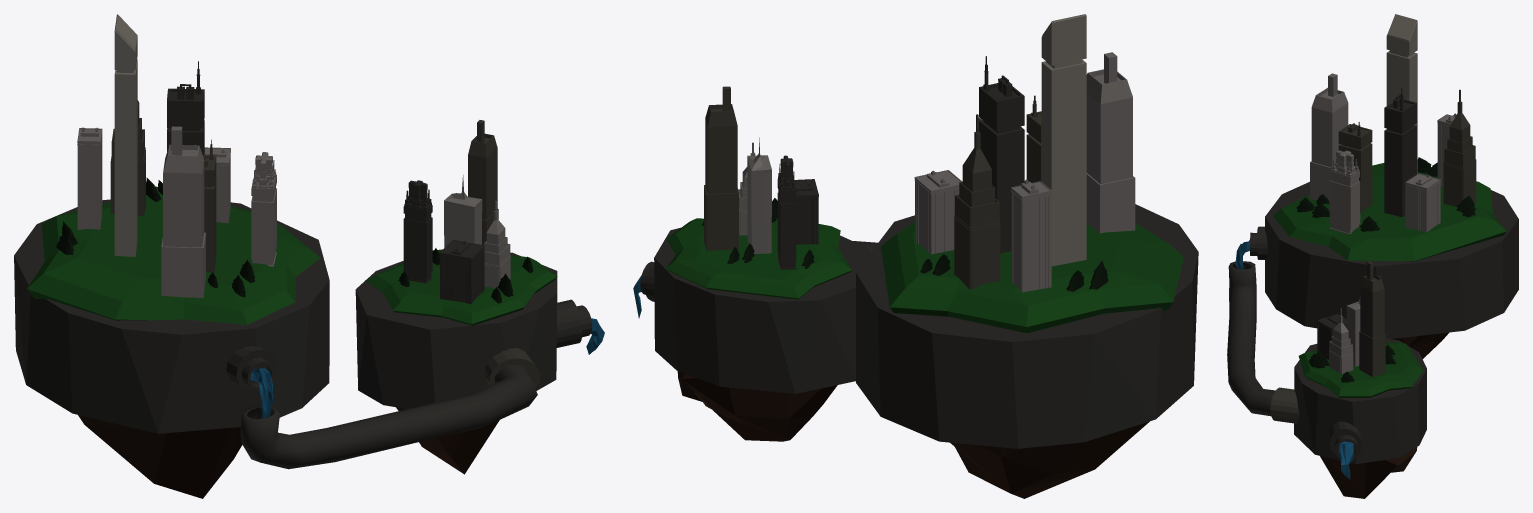
The model's file is NEWlandcity.obj.
3 views of the same model, side by side, from view 1: azimuth 30°, elevation 25°; view 2: azimuth 150°, elevation 25°; view 3: azimuth 270°, elevation 25° (orthographic). The views are drawn at different scales.
Visible parts, largest first — view 1: Cylinder, Cylinder_multicolor_0, Cylinder.001, BezierCurve, Icosphere.001, Highrise_8.002, Cylinder_multicolor_0.001, Highrise_16.002, Highrise_18, Highrise_18.005, Highrise_14.006, Highrise_14.002 (+12 smaller); view 2: Cylinder, Cylinder.001, Cylinder_multicolor_0, Highrise_16.002, Cylinder_multicolor_0.001, Highrise_8.002, Icosphere.001, Highrise_9.001_Highrise_9.010, Icosphere.002, Highrise_11.002, Highrise_8.001, Highrise_14.006 (+5 smaller); view 3: Cylinder, Cylinder_multicolor_0, Cylinder.001, BezierCurve, Highrise_11.002, Cylinder_multicolor_0.001, Highrise_8.002, Highrise_16.002, Highrise_9.001_Highrise_9.010, Highrise_8.001, Highrise_18.005, Icosphere.002 (+11 smaller).
Boxes of the visible parts, x1,y1,x2,y2 form: Cylinder: (14,199,329,433); Cylinder_multicolor_0: (27,186,320,324); Cylinder.001: (355,252,557,408); BezierCurve: (240,365,537,469); Icosphere.001: (78,415,242,498); Highrise_8.002: (161,126,205,297); Cylinder_multicolor_0.001: (365,249,557,326); Highrise_16.002: (114,14,137,256); Highrise_18: (403,180,432,283); Highrise_18.005: (251,152,276,267); Highrise_14.006: (77,127,102,229); Highrise_14.002: (439,239,484,304); Cylinder: (856,204,1198,448); Cylinder.001: (654,227,869,393); Cylinder_multicolor_0: (880,222,1183,333); Highrise_16.002: (1041,14,1086,266); Cylinder_multicolor_0.001: (666,218,851,299); Highrise_8.002: (1086,52,1135,233); Icosphere.001: (950,421,1149,498); Highrise_9.001_Highrise_9.010: (954,114,1000,289); Icosphere.002: (677,371,837,441); Highrise_11.002: (979,56,1024,253); Highrise_8.001: (704,86,738,250); Highrise_14.006: (1011,179,1051,292); Cylinder: (1265,182,1518,338); Cylinder_multicolor_0: (1273,163,1506,263); Cylinder.001: (1294,338,1426,464); BezierCurve: (1227,261,1275,416); Highrise_11.002: (1384,88,1416,217); Cylinder_multicolor_0.001: (1298,342,1423,397); Highrise_8.002: (1310,73,1348,201); Highrise_16.002: (1386,14,1417,174); Highrise_9.001_Highrise_9.010: (1443,89,1476,206); Highrise_8.001: (1359,261,1385,377); Highrise_18.005: (1330,150,1360,234); Icosphere.002: (1320,447,1417,498).
Bounding box in the file's own units: 1.25 × 1.1 × 0.7913.
